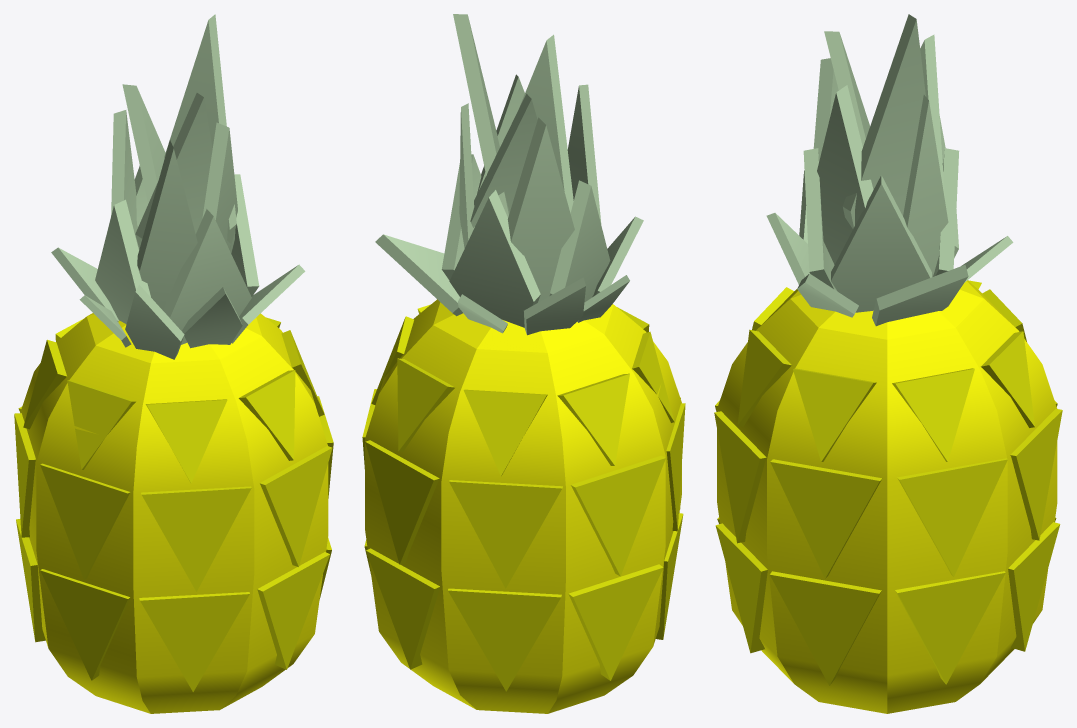
The model's file is Pineapple 1.fbx.
3 renders of one model, left to right at view 1: azimuth 30°, elevation 25°; view 2: azimuth 150°, elevation 25°; view 3: azimuth 270°, elevation 25°, orthographic. The views are drawn at different scales.
Visible parts, largest first — view 1: pCube31; view 2: pCube31; view 3: pCube31.
Part boxes in pixels (<box>): pCube31: <box>14,14,333,713</box>; pCube31: <box>362,14,685,713</box>; pCube31: <box>714,14,1062,713</box>.
Size of the model in its own units: 2.05 by 4.42 by 2.05.
